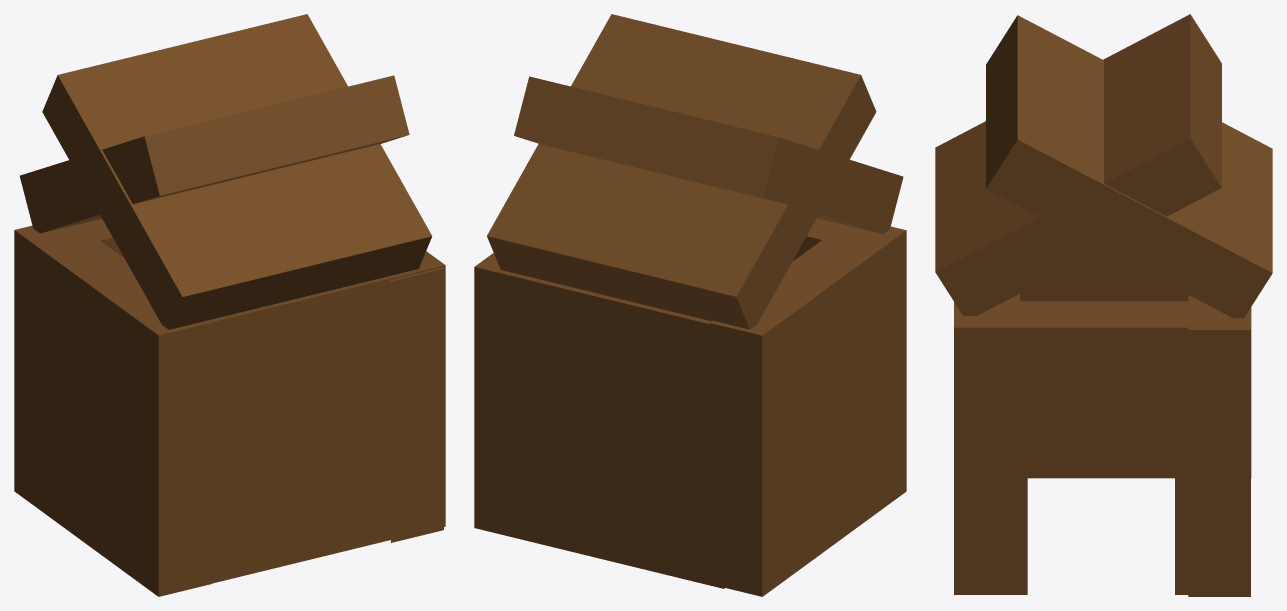
Rendered from CABIN.fbx.
3 renders of one model, left to right at view 1: azimuth 30°, elevation 25°; view 2: azimuth 150°, elevation 25°; view 3: azimuth 270°, elevation 25°, orthographic. The views are drawn at different scales.
Parts seen in each view (by area): view 1: Cube.005; view 2: Cube.005; view 3: Cube.005.
Boxes of the visible parts, x1,y1,x2,y2 form: Cube.005: (14, 14, 445, 596); Cube.005: (474, 14, 906, 596); Cube.005: (935, 14, 1272, 596).
Bounding box in the file's own units: 1155 × 1670 × 1145.
